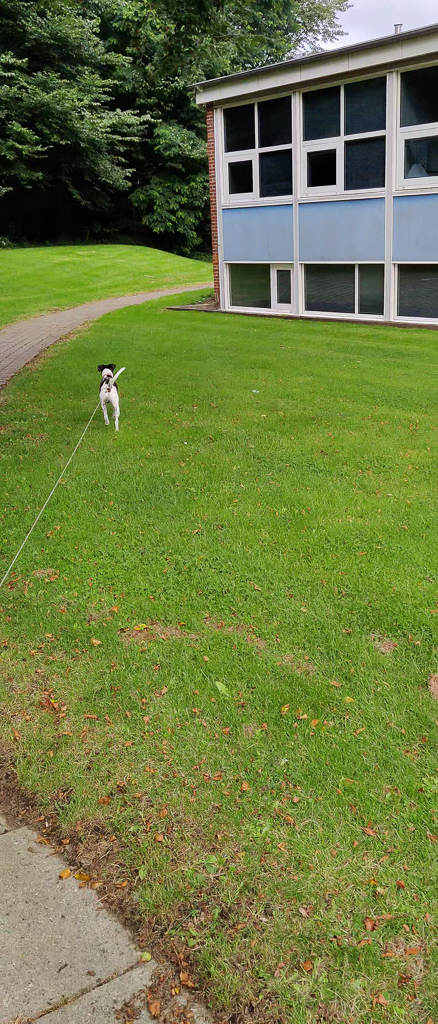Dog: (92, 359, 130, 436)
